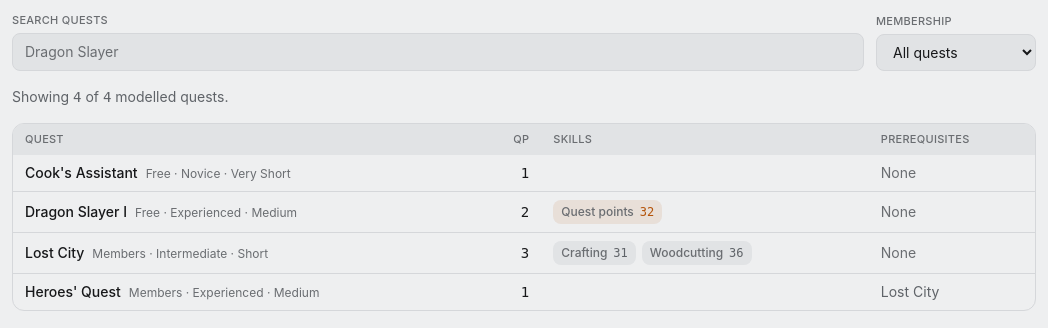
QuestIndex › filters by search text
The image size is (1048, 328).
Type "dragon" into the search field labelled "Search quests". click: (438,52)
box: [12,32,864,70]
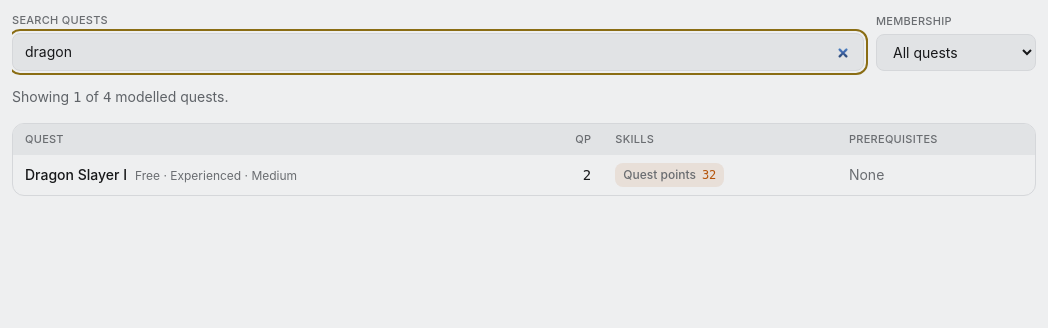
Expected: the link "Dragon Slayer I" is shown, [25,166,127,183]
Expected: the link "Lost City" is gone
